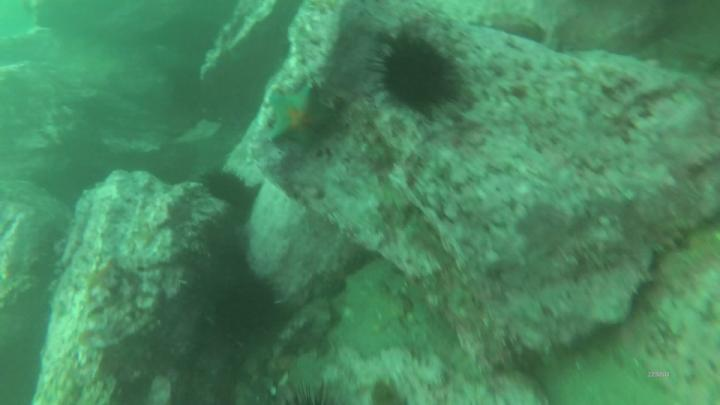echinus: (366, 33, 465, 117), (224, 276, 280, 326), (198, 166, 255, 211), (278, 377, 342, 405)
starfish: (266, 85, 333, 150)
